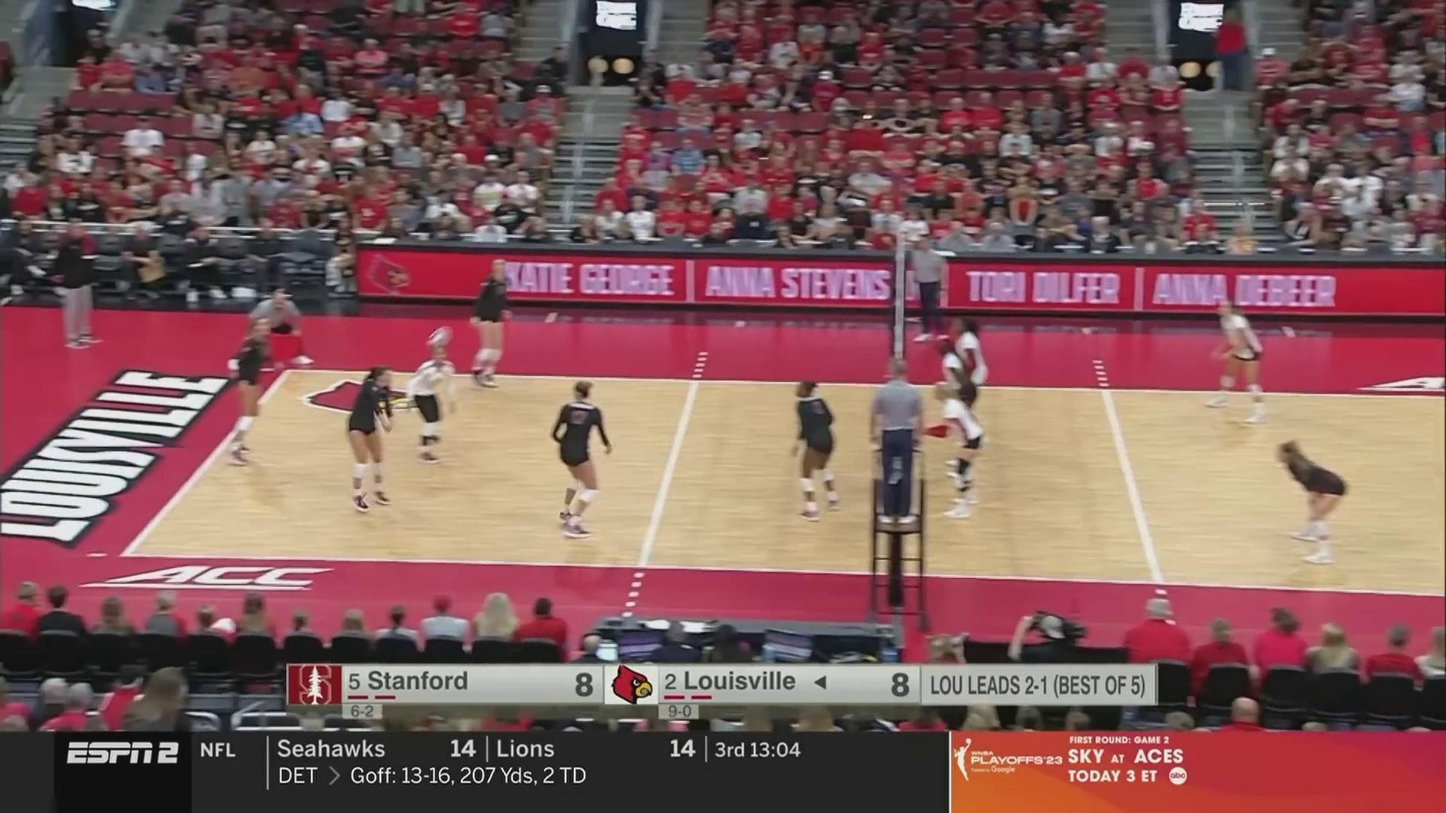player: (215, 326, 294, 466), (544, 386, 608, 539), (1202, 297, 1272, 426), (1274, 440, 1346, 559), (929, 380, 988, 518), (344, 369, 399, 517), (790, 382, 842, 515), (403, 339, 455, 465), (930, 334, 981, 461), (463, 272, 517, 386), (947, 317, 987, 444)
refree: (877, 363, 920, 524), (243, 288, 310, 367), (912, 234, 948, 343)
